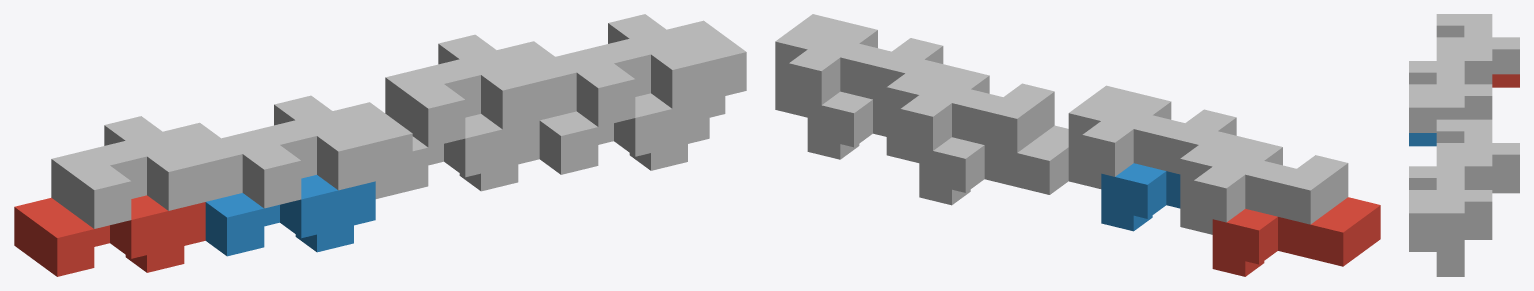
File: tiling.obj
3 renders of one model, left to right at view 1: azimuth 30°, elevation 25°; view 2: azimuth 150°, elevation 25°; view 3: azimuth 270°, elevation 25°, orthographic. The views are drawn at different scales.
Parts seen in each view (by area): view 1: copy_1_domain_3, copy_1_domain_7, copy_1_domain_4, copy_1_domain_8, copy_1_domain_1, copy_1_domain_6, copy_1_domain_2, copy_1_domain_5; view 2: copy_1_domain_7, copy_1_domain_3, copy_1_domain_4, copy_1_domain_8, copy_1_domain_1, copy_1_domain_5, copy_1_domain_6, copy_1_domain_2; view 3: copy_1_domain_8, copy_1_domain_4, copy_1_domain_3, copy_1_domain_7, copy_1_domain_6, copy_1_domain_5, copy_1_domain_1, copy_1_domain_2.
Boxes of the visible parts, x1,y1,x2,y2 form: copy_1_domain_3: [51, 116, 242, 228]; copy_1_domain_7: [385, 34, 576, 147]; copy_1_domain_4: [222, 95, 412, 208]; copy_1_domain_8: [555, 14, 746, 126]; copy_1_domain_1: [14, 195, 205, 276]; copy_1_domain_6: [539, 93, 709, 174]; copy_1_domain_2: [205, 175, 375, 256]; copy_1_domain_5: [391, 114, 539, 195]; copy_1_domain_7: [886, 59, 1054, 162]; copy_1_domain_3: [1180, 131, 1348, 234]; copy_1_domain_4: [1068, 85, 1236, 188]; copy_1_domain_8: [775, 14, 943, 117]; copy_1_domain_1: [1212, 197, 1380, 276]; copy_1_domain_5: [919, 125, 1068, 205]; copy_1_domain_6: [807, 91, 886, 159]; copy_1_domain_2: [1101, 163, 1180, 231]; copy_1_domain_8: [1409, 166, 1492, 263]; copy_1_domain_4: [1409, 61, 1492, 132]; copy_1_domain_3: [1436, 14, 1519, 84]; copy_1_domain_7: [1436, 119, 1519, 189]; copy_1_domain_6: [1409, 226, 1492, 276]; copy_1_domain_5: [1492, 179, 1519, 193]; copy_1_domain_1: [1492, 74, 1519, 87]; copy_1_domain_2: [1409, 133, 1436, 146].
Bounding box in the file's own units: 18 × 3 × 4.
